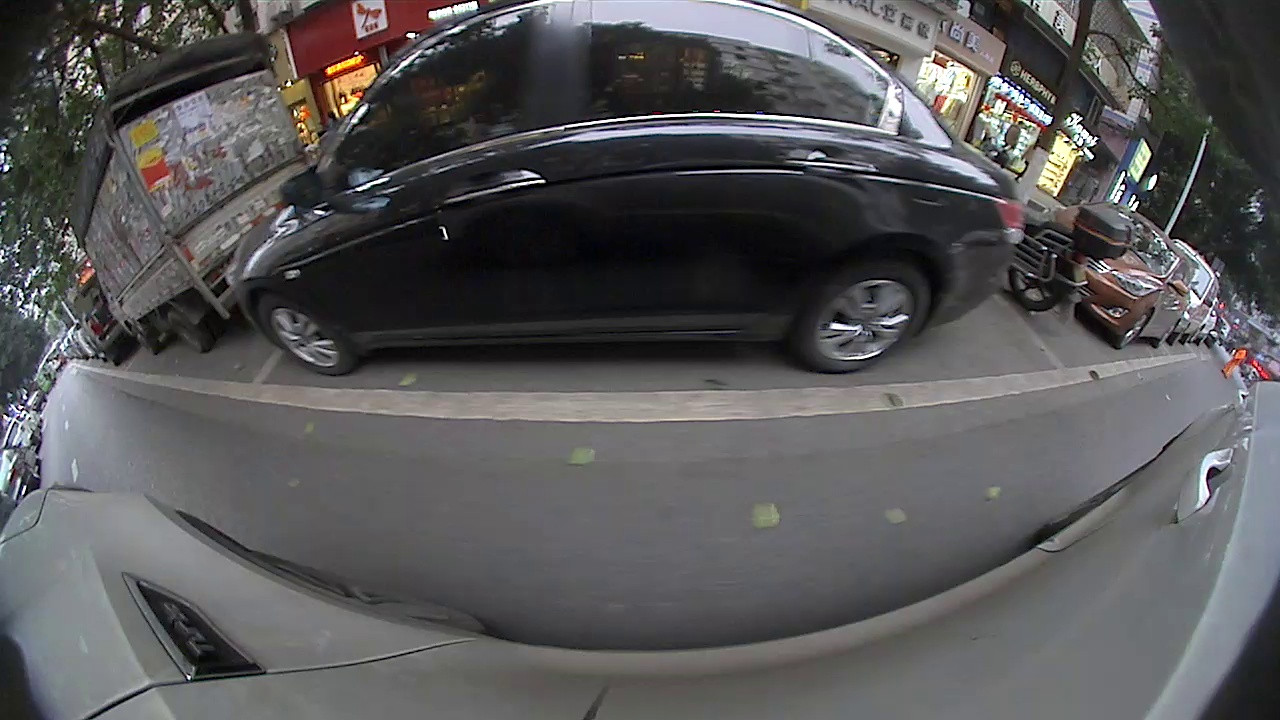car: (229, 2, 1028, 378), (1051, 195, 1196, 353)
front: (256, 294, 352, 374), (1120, 310, 1152, 351)
rear: (803, 260, 929, 373), (1012, 242, 1068, 313), (160, 313, 219, 356)
rider: (1001, 199, 1139, 317)
truck: (63, 27, 313, 360)
